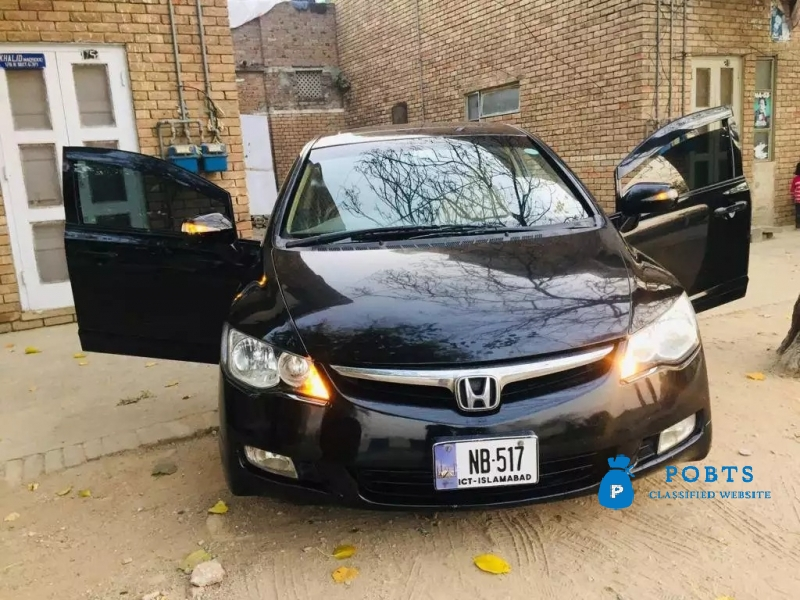plate: (431, 434, 542, 492)
